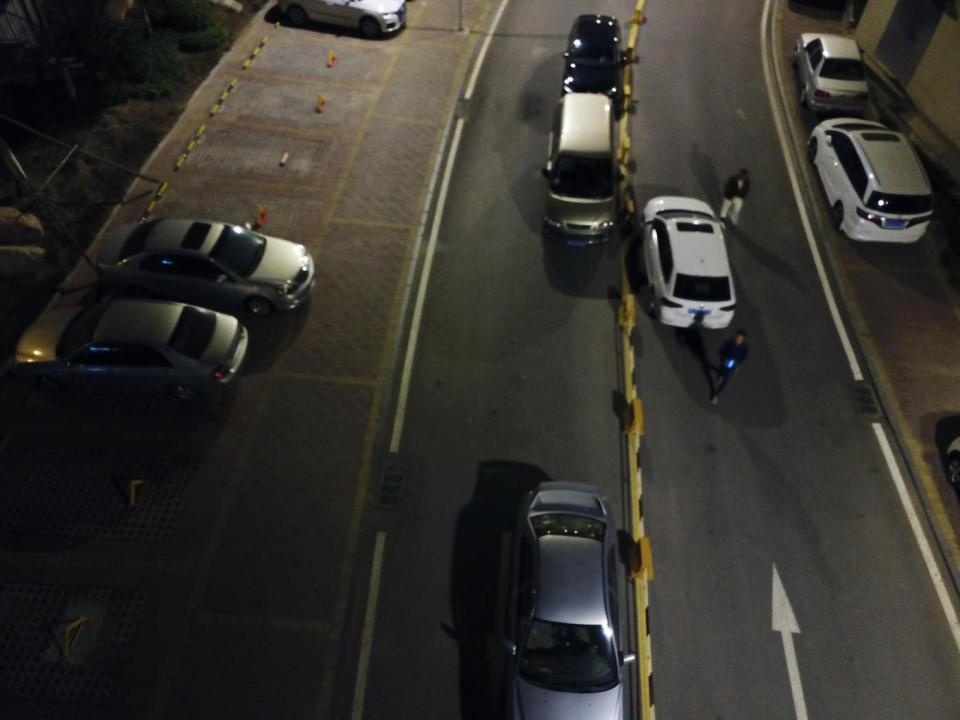car: (500, 482, 636, 720), (14, 295, 249, 402), (95, 217, 316, 319), (806, 118, 934, 244), (636, 195, 737, 331), (791, 31, 870, 116), (561, 13, 626, 115), (278, 0, 407, 38)
van: (541, 91, 618, 247)
